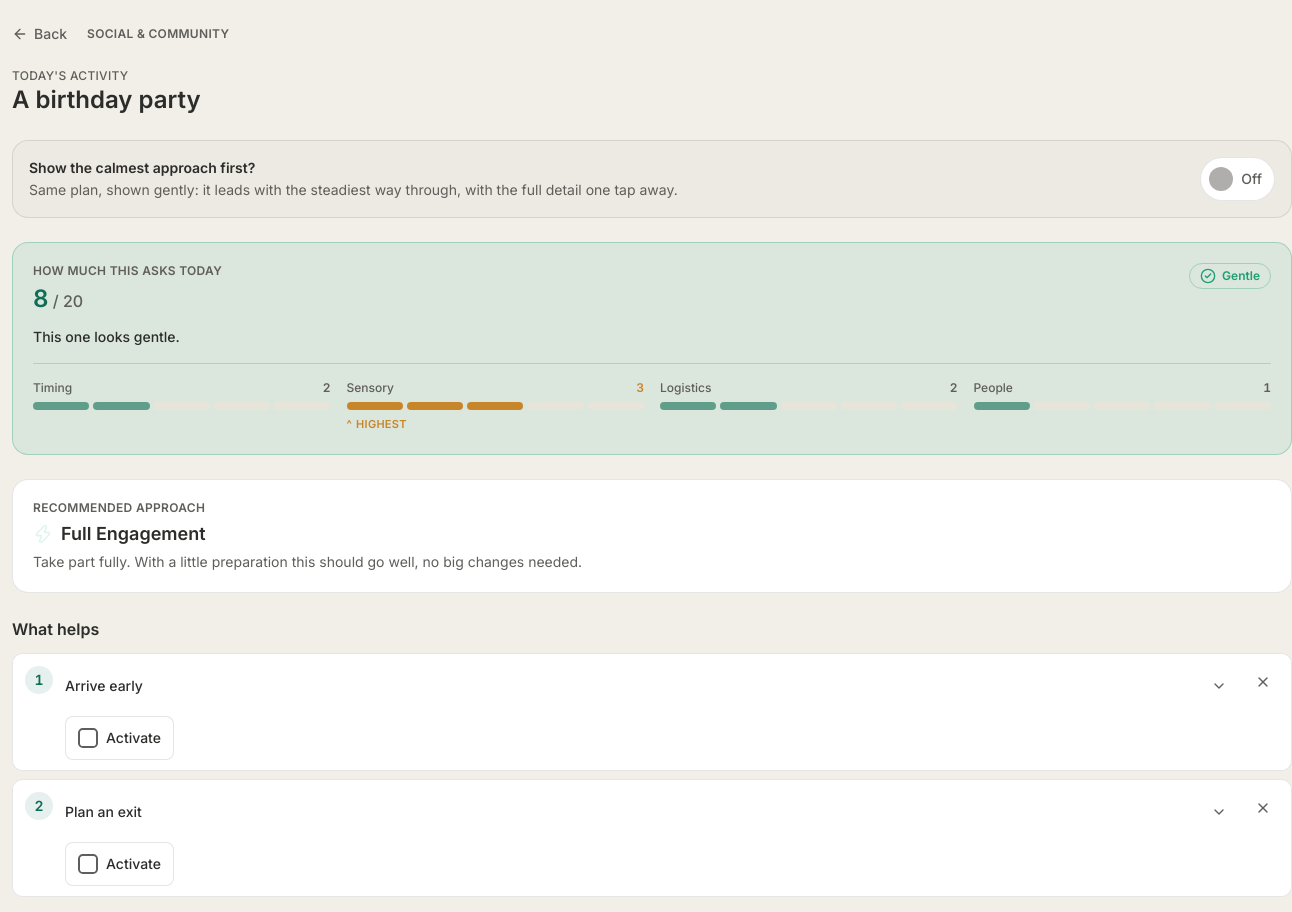
Test: PreparationPlanView strategy list › removes a strategy from the list when its remove control is pressed
This screenshot has width=1292, height=912.
expect the text "Plan an exit" is shown: met, box [65, 802, 142, 822]
Click the button named "remove plan an exit" in the row of "Plan an exit": (1263, 808) [1241, 786, 1285, 830]
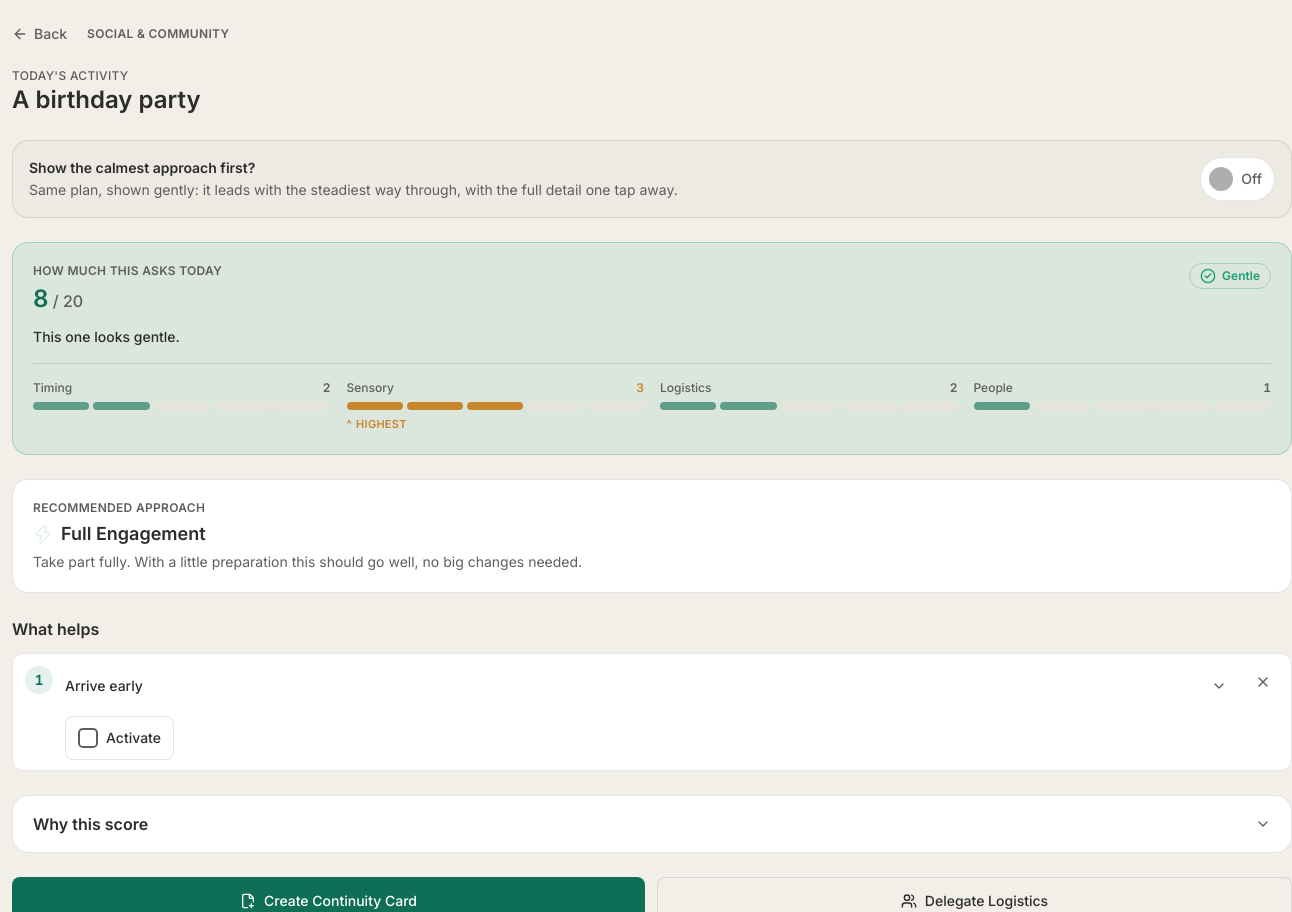
expect the text "Arrive early" is shown: met, box [65, 676, 143, 696]
expect the heading "Plan an exit" is gone: met
